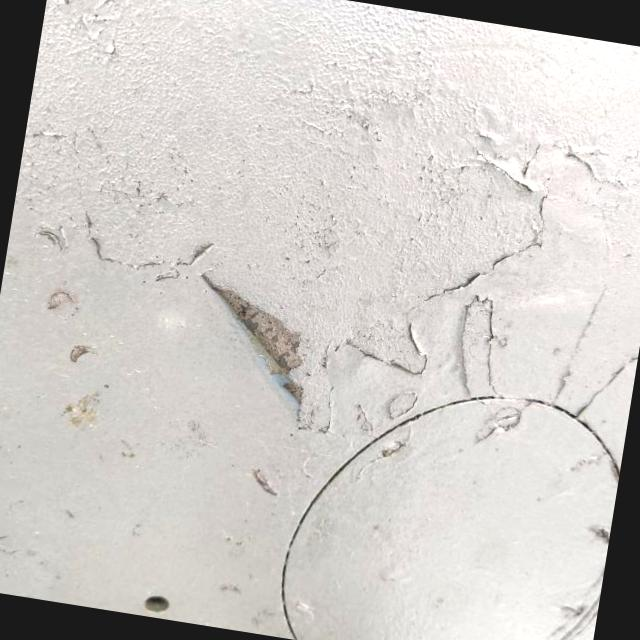paint-off: (158, 243, 368, 449)
